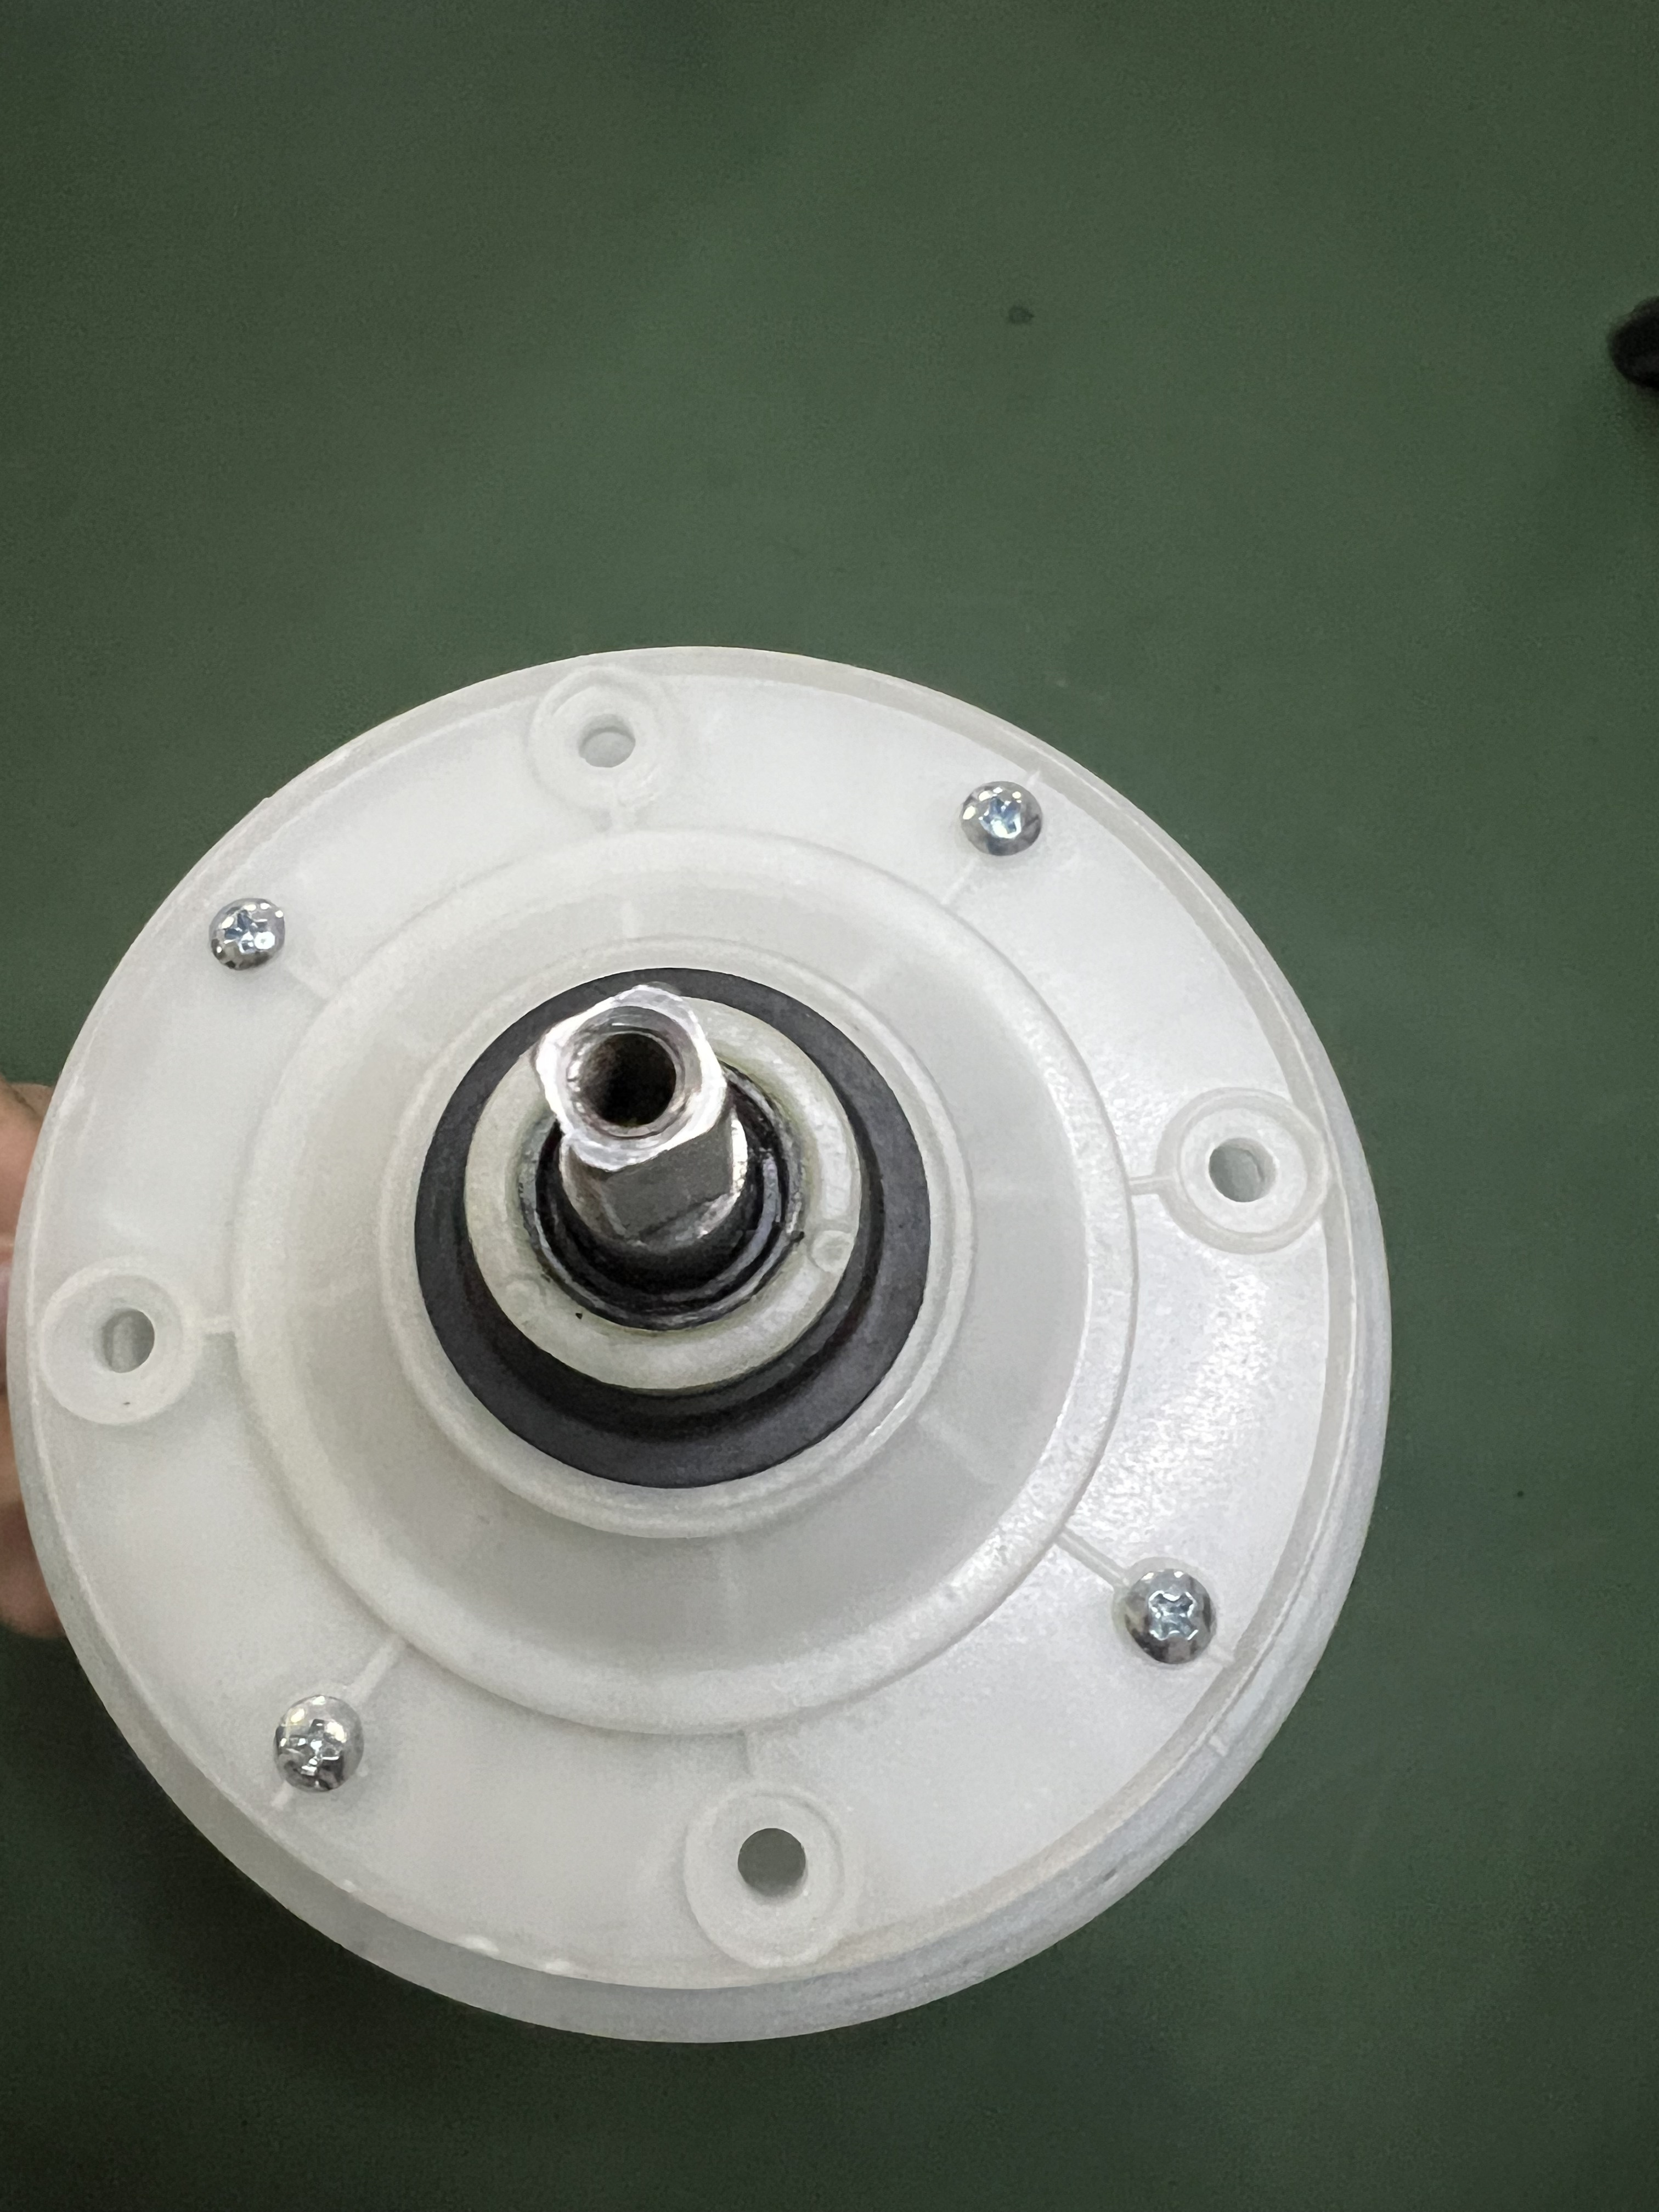gear_box_ovul: (47, 644, 1406, 2035)
